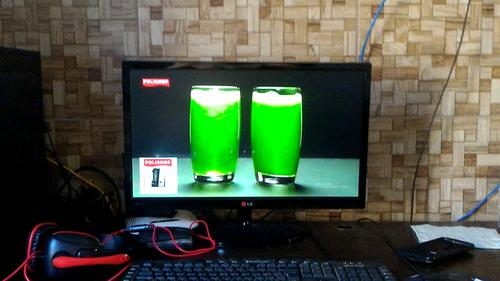Polishop #1: (139, 156, 178, 194)
